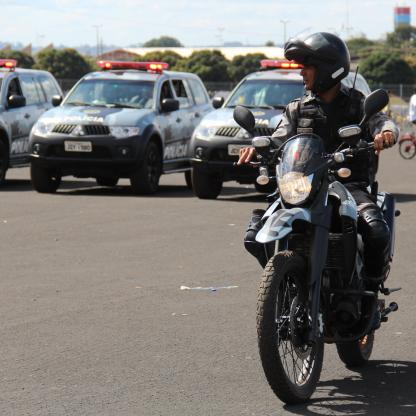Helmet: (288, 29, 357, 97)
